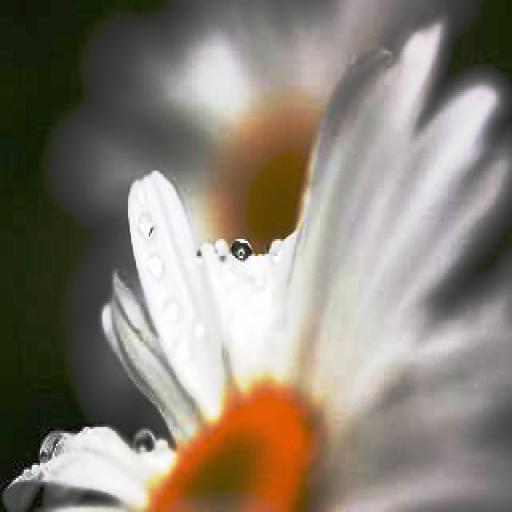daisy: (27, 49, 512, 512)
